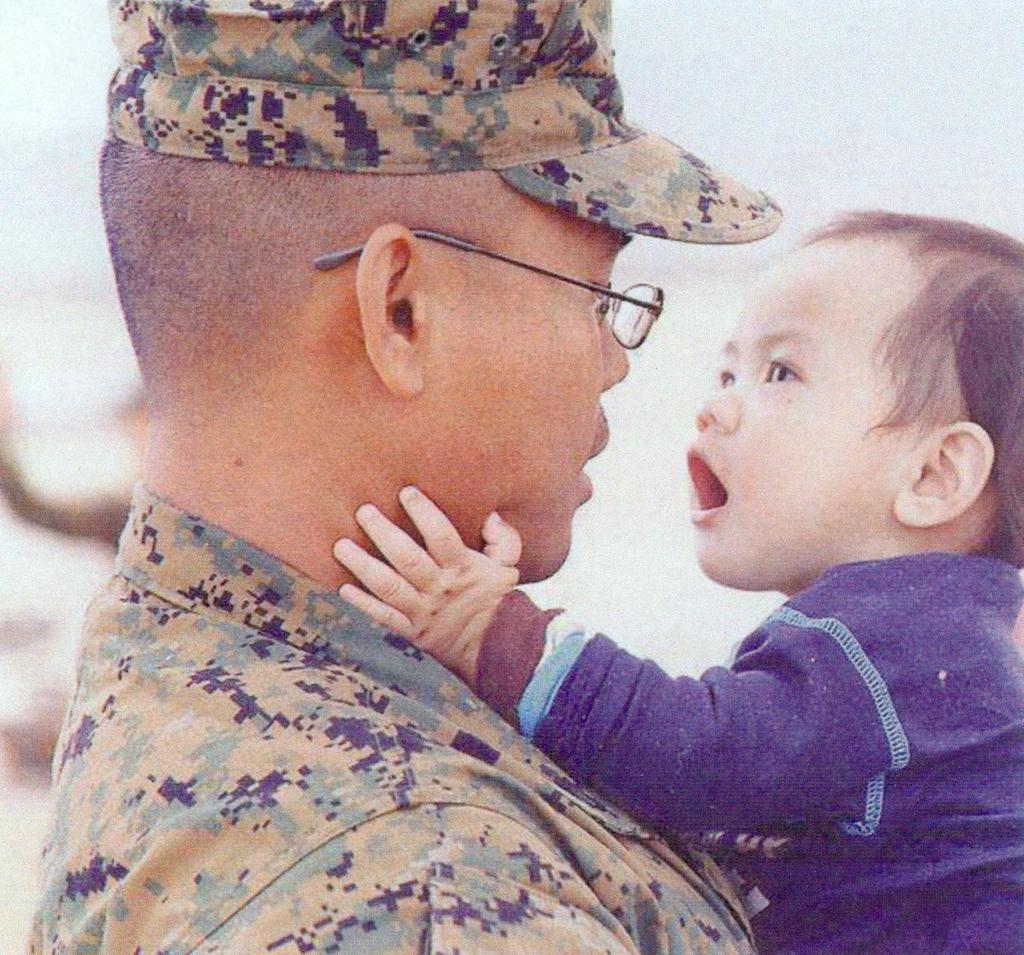Hat: (104, 0, 790, 248)
